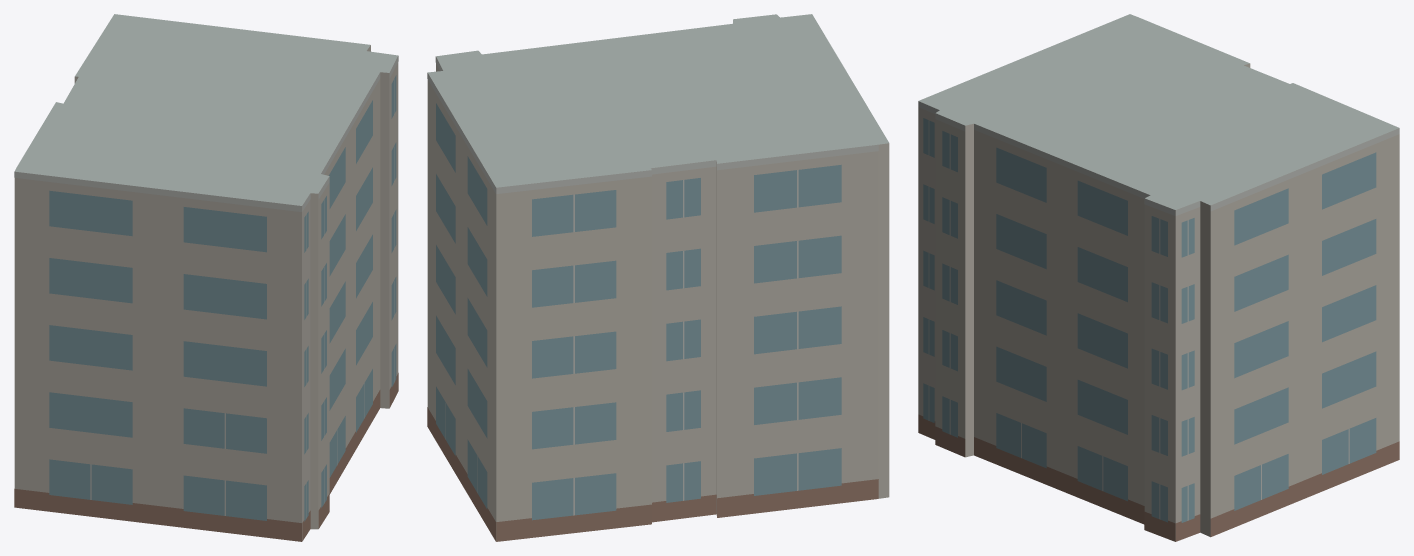
File: survey-upis-32776867.glb
The picture shows the model from 3 angles, left to right: view 1: azimuth 30°, elevation 25°; view 2: azimuth 150°, elevation 25°; view 3: azimuth 270°, elevation 25°; orthographic projection. The views are drawn at different scales.
Visible parts, largest first — view 1: survey-upis-32776867.tmp; view 2: survey-upis-32776867.tmp; view 3: survey-upis-32776867.tmp.
Part boxes in pixels (x1=…): survey-upis-32776867.tmp: x1=14, y1=14, x2=398, y2=541; survey-upis-32776867.tmp: x1=427, y1=14, x2=889, y2=541; survey-upis-32776867.tmp: x1=918, y1=14, x2=1399, y2=541.
Size of the model in its own units: 17 by 13.4 by 17.63.
